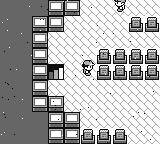main: (82, 60, 95, 76), (113, 0, 126, 12)
no-caminable: (1, 0, 49, 143), (32, 1, 80, 143), (96, 48, 160, 81), (80, 128, 127, 143), (128, 16, 160, 32)
puerta: (48, 64, 64, 80)
